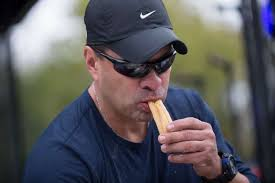eating: (63, 1, 215, 155)
